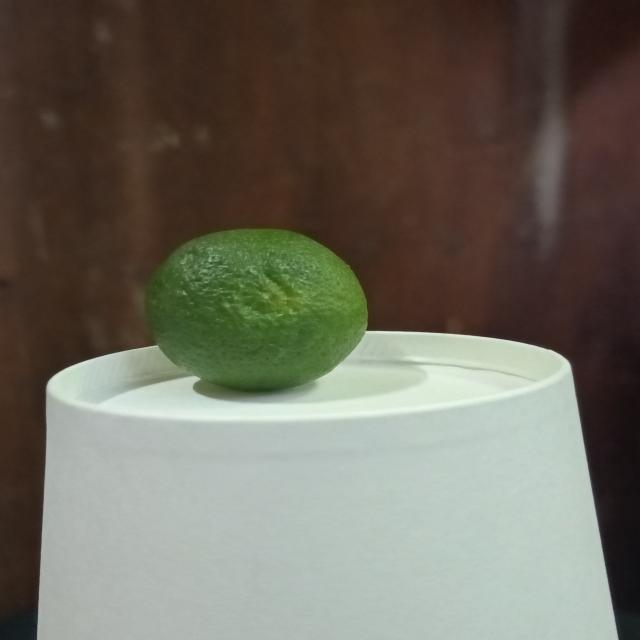heathy: (140, 223, 378, 396)
